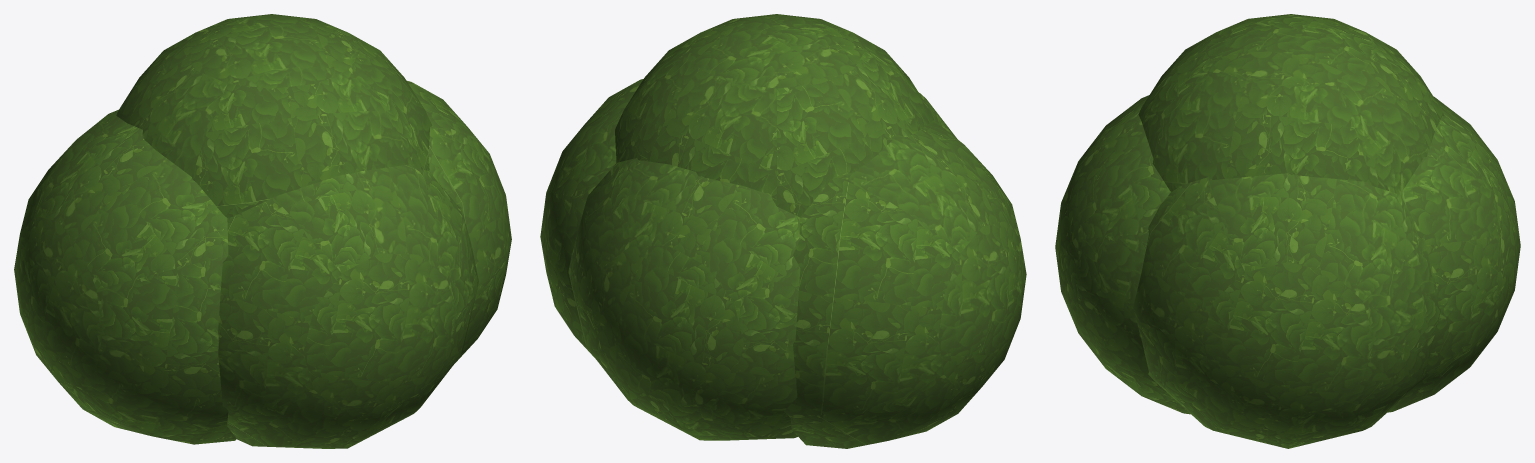
Rendered from bush.dae.
The picture shows the model from 3 angles, left to right: view 1: azimuth 30°, elevation 25°; view 2: azimuth 150°, elevation 25°; view 3: azimuth 270°, elevation 25°; orthographic projection. The views are drawn at different scales.
Parts seen in each view (by area): view 1: Sphere_001; view 2: Sphere_001; view 3: Sphere_001.
Part boxes in pixels (bbox=[...]): Sphere_001: bbox=[14, 14, 511, 448]; Sphere_001: bbox=[540, 14, 1026, 448]; Sphere_001: bbox=[1055, 14, 1520, 448].
Size of the model in its own units: 2.91 by 2.7 by 2.39.
